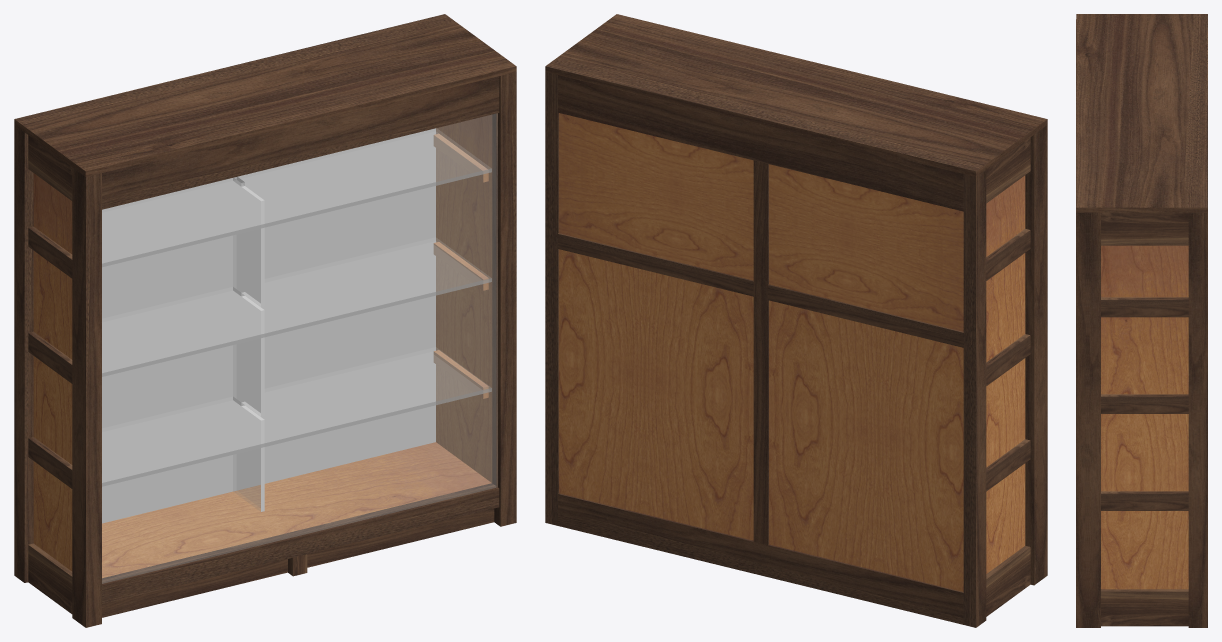
The model's file is case-1.glb.
3 views of the same model, side by side, from view 1: azimuth 30°, elevation 25°; view 2: azimuth 150°, elevation 25°; view 3: azimuth 270°, elevation 25° (orthographic). The views are drawn at different scales.
Visible parts, largest first — view 1: door.glass, glass.mirror, glass.shelves, top.001, door.legs.001, box.009, box.010, door.frame.top.001, box.006, door.frame-bottom.001, back.leg.002, front.frame.bottom.001 (+6 smaller); view 2: back.panel.bottom, back.panel.top, top.001, back.frame.top.001, back.leg.001, back.frame.bottom.001, box.006, front.leg.001, back.divider.x.001, back.divider.z.001, back.leg.002, side.frame.top.001 (+2 smaller); view 3: top.001, box.010, side.frame.top.001, back.leg.002, front.leg.001, side.divider.001, door.legs.001, back.leg.001.
Boxes of the visible parts, x1,y1,x2,y2 form: door.glass: (102, 114, 497, 583); glass.mirror: (102, 128, 435, 523); glass.shelves: (102, 131, 491, 486); top.001: (14, 14, 516, 176); door.legs.001: (79, 72, 516, 627); box.009: (102, 442, 491, 577); box.010: (436, 114, 492, 482); door.frame.top.001: (102, 76, 499, 209); box.006: (33, 173, 72, 571); door.frame-bottom.001: (102, 485, 499, 603); back.leg.002: (17, 127, 33, 582); front.frame.bottom.001: (102, 483, 494, 617); back.panel.bottom: (559, 249, 963, 591); back.panel.top: (559, 113, 963, 331); top.001: (545, 14, 1047, 176); back.frame.top.001: (558, 75, 963, 211); back.leg.001: (545, 72, 979, 627); back.frame.bottom.001: (558, 493, 963, 624); box.006: (986, 175, 1025, 573); front.leg.001: (1025, 130, 1041, 585); back.divider.x.001: (558, 233, 963, 347); back.divider.z.001: (753, 160, 768, 544); back.leg.002: (979, 170, 986, 625); side.frame.top.001: (986, 137, 1030, 616); top.001: (1076, 14, 1207, 212); box.010: (1101, 245, 1188, 589); side.frame.top.001: (1101, 212, 1188, 626); back.leg.002: (1188, 212, 1202, 627); front.leg.001: (1087, 212, 1100, 627); side.divider.001: (1101, 297, 1188, 510); door.legs.001: (1076, 19, 1087, 627); back.leg.001: (1202, 212, 1207, 627).
Size of the model in its own units: 1.52 by 1.54 by 0.4384.
Materials: 7 (2 with a texture image).
